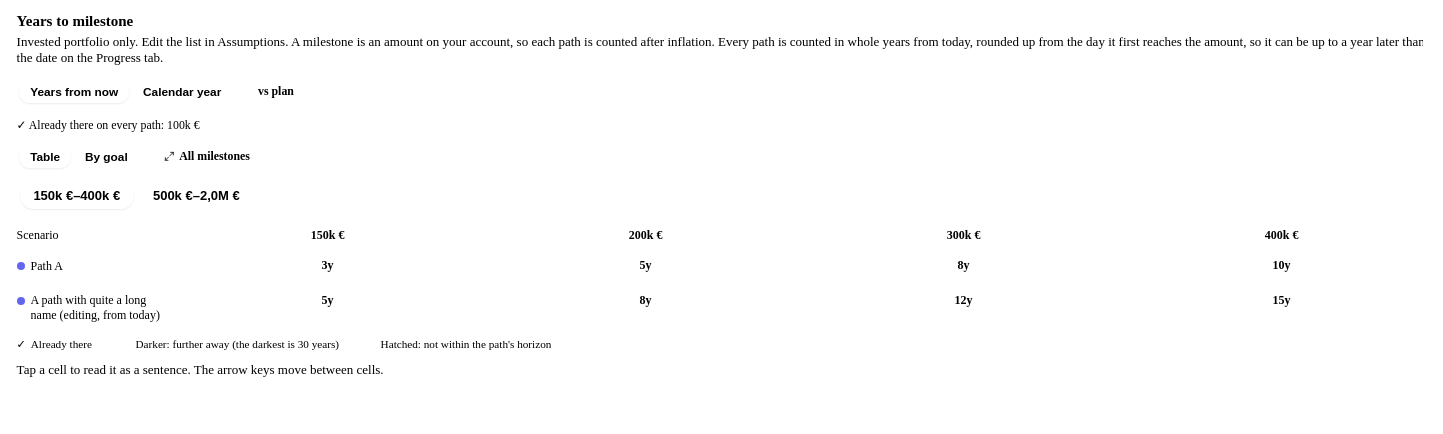
Scenario: reading by goal › switches to the calendar year with the same toggle as the table
Step 1. Click the radio button labelled "By goal" → {"x": 106, "y": 157}, box [74,146,139,168]
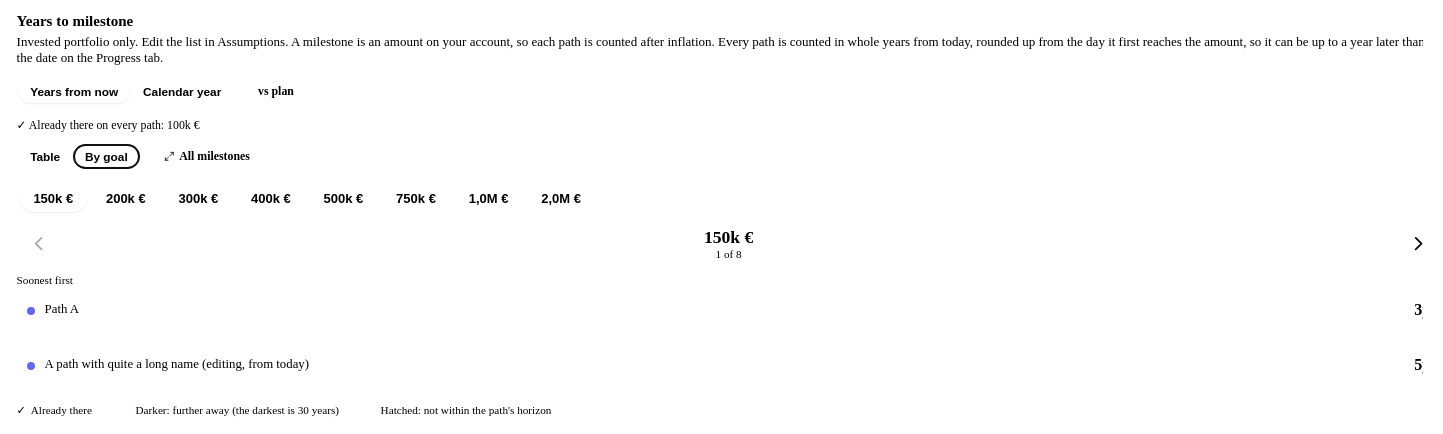
Step 2. Click the radio button labelled "Calendar year" → {"x": 182, "y": 92}, box [132,80,232,103]
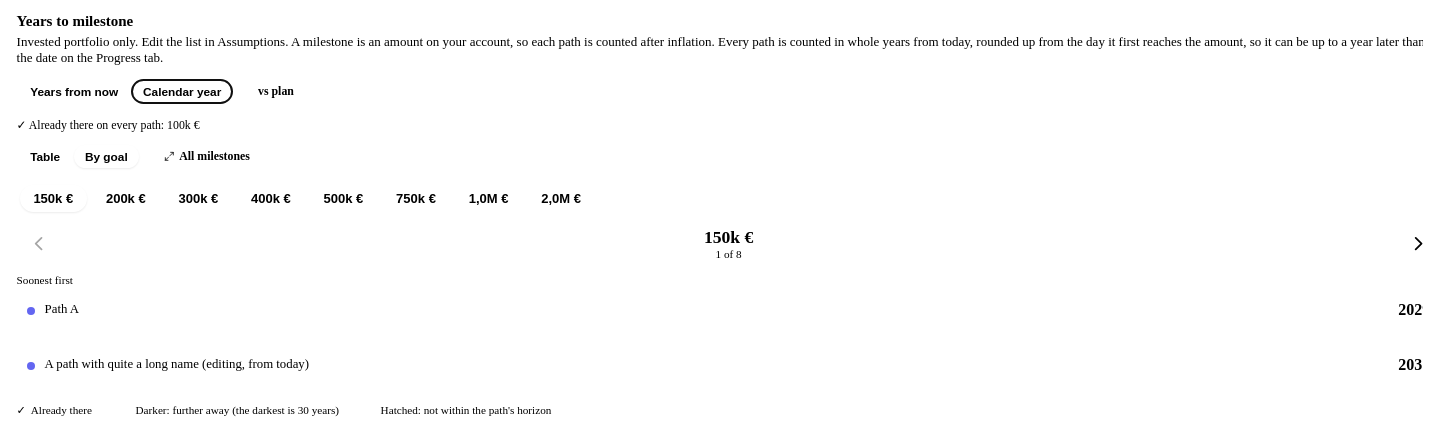
Expected: the list item "A path with quite a long name (editing, from today) 2031" is shown, [27,356,1423,373]
